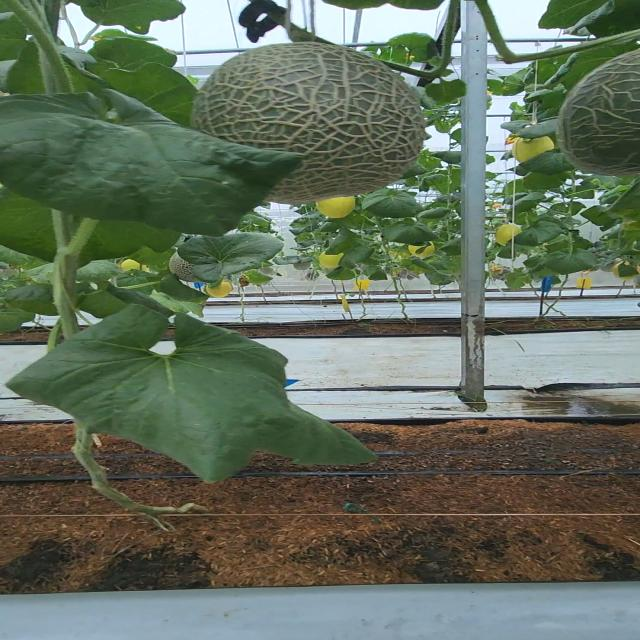Melon: (195, 42, 435, 206), (559, 45, 640, 178)
